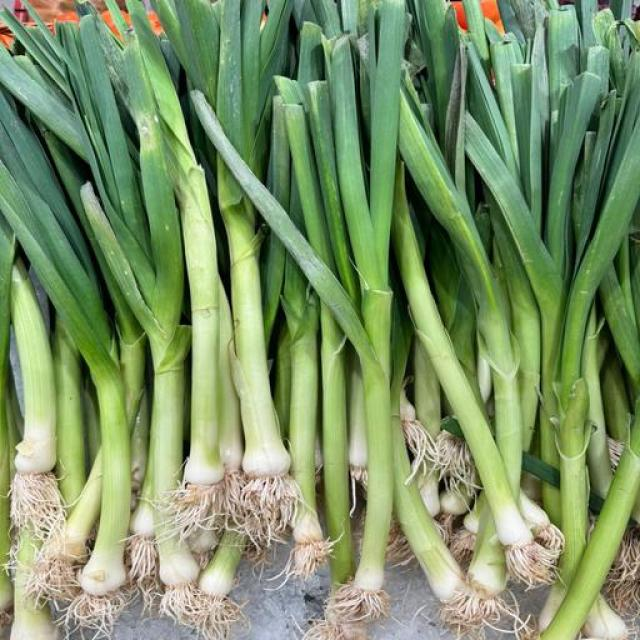organic: (0, 0, 640, 640), (480, 0, 502, 31)
